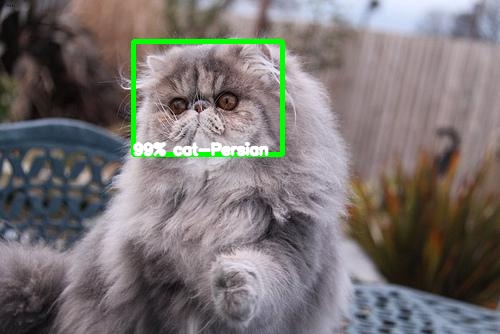cat-Persian: (147, 40, 273, 156)
